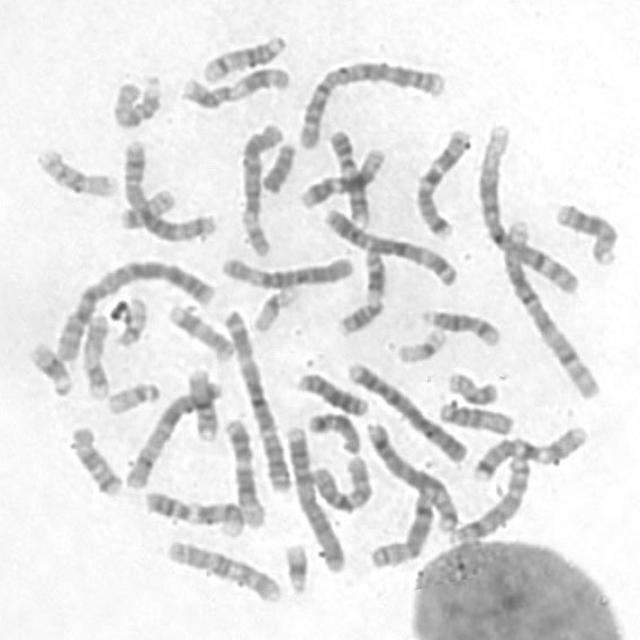A1: (497, 210, 605, 402), (469, 115, 583, 296)
A2: (45, 252, 218, 362), (289, 52, 449, 151)
A3: (217, 301, 293, 494), (316, 200, 459, 288)
B4: (340, 354, 471, 465), (279, 418, 349, 574)
B5: (360, 416, 461, 534), (116, 133, 219, 242)
C10: (158, 532, 284, 606), (306, 448, 373, 515)
C11: (174, 58, 292, 111), (332, 240, 388, 336)
C12: (294, 140, 388, 211), (218, 411, 268, 530)
C6: (232, 114, 288, 258), (214, 247, 355, 290)
C7: (408, 120, 474, 240), (466, 419, 589, 483)
C8: (442, 447, 533, 546), (363, 484, 438, 570)
C9: (138, 484, 246, 538), (322, 121, 371, 227)
D13: (549, 195, 620, 268), (290, 364, 370, 418)
D14: (196, 26, 289, 84), (414, 301, 503, 347)
D15: (105, 67, 164, 131), (432, 395, 516, 436)
E16: (29, 140, 118, 199), (180, 362, 220, 442)
E17: (162, 295, 235, 362), (76, 306, 112, 400)
E18: (64, 419, 125, 498), (302, 404, 362, 456)
F19: (246, 279, 302, 334), (390, 320, 449, 364)
F20: (112, 180, 178, 232), (441, 364, 500, 406)
G21: (23, 335, 76, 398), (278, 536, 310, 596)
G22: (100, 374, 162, 416), (108, 288, 150, 348)
X: (118, 370, 222, 491)
Y: (255, 136, 298, 194)
